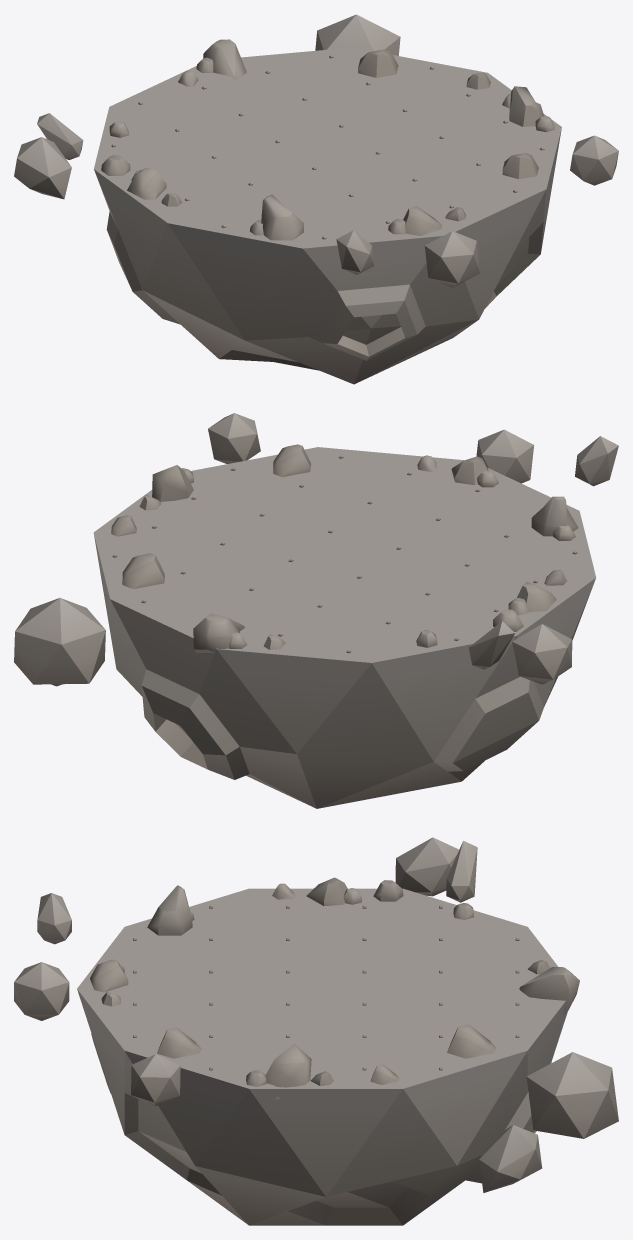
The picture shows the model from 3 angles, top to bottom: view 1: azimuth 30°, elevation 25°; view 2: azimuth 150°, elevation 25°; view 3: azimuth 270°, elevation 25°; orthographic projection. The views are drawn at different scales.
Visible parts, largest first — view 1: Base; view 2: Base; view 3: Base.
Part boxes in pixels (x1,y1,x2,y2): Base: [14, 14, 618, 384]; Base: [14, 413, 618, 808]; Base: [14, 837, 618, 1225].
Size of the model in its own units: 2.12 by 1.12 by 2.29.
1 material, 1 textured.
